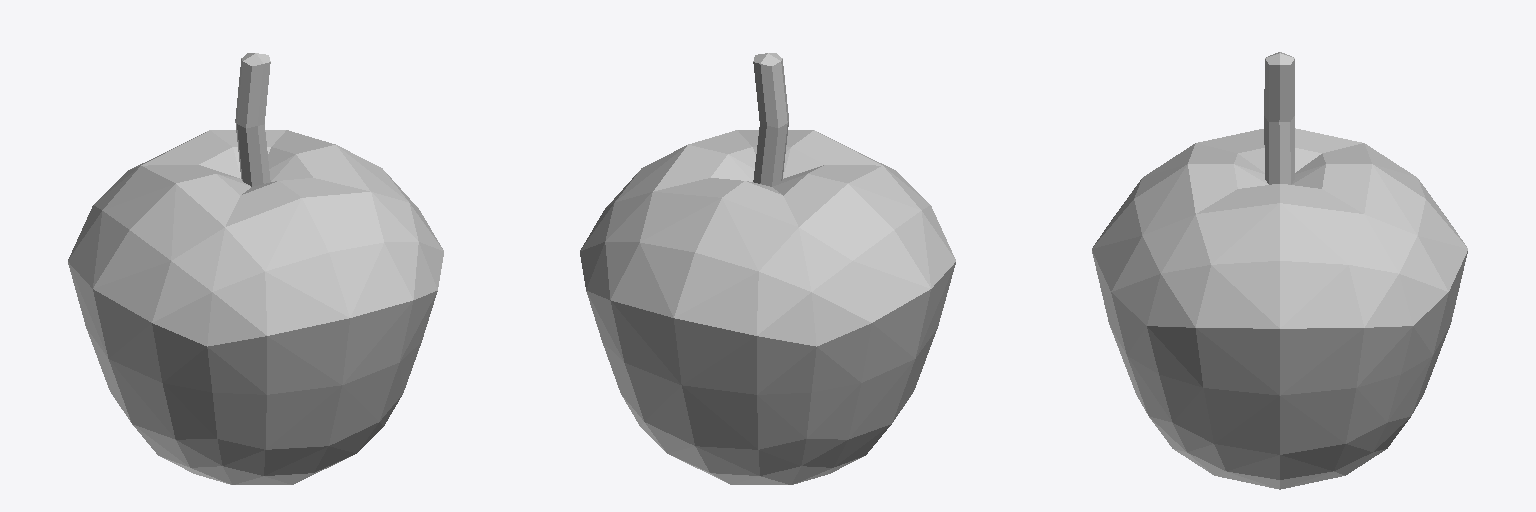
The model's file is apple.obj.
The picture shows the model from 3 angles: view 1: azimuth 30°, elevation 25°; view 2: azimuth 150°, elevation 25°; view 3: azimuth 270°, elevation 25°; orthographic projection.
Visible parts, largest first — view 1: Cube_Cube.002; view 2: Cube_Cube.002; view 3: Cube_Cube.002.
Boxes of the visible parts, x1=… form: Cube_Cube.002: x1=68, y1=53, x2=443, y2=484; Cube_Cube.002: x1=580, y1=53, x2=955, y2=484; Cube_Cube.002: x1=1092, y1=52, x2=1467, y2=489.
Size of the model in its own units: 2.9 by 3.45 by 2.9.